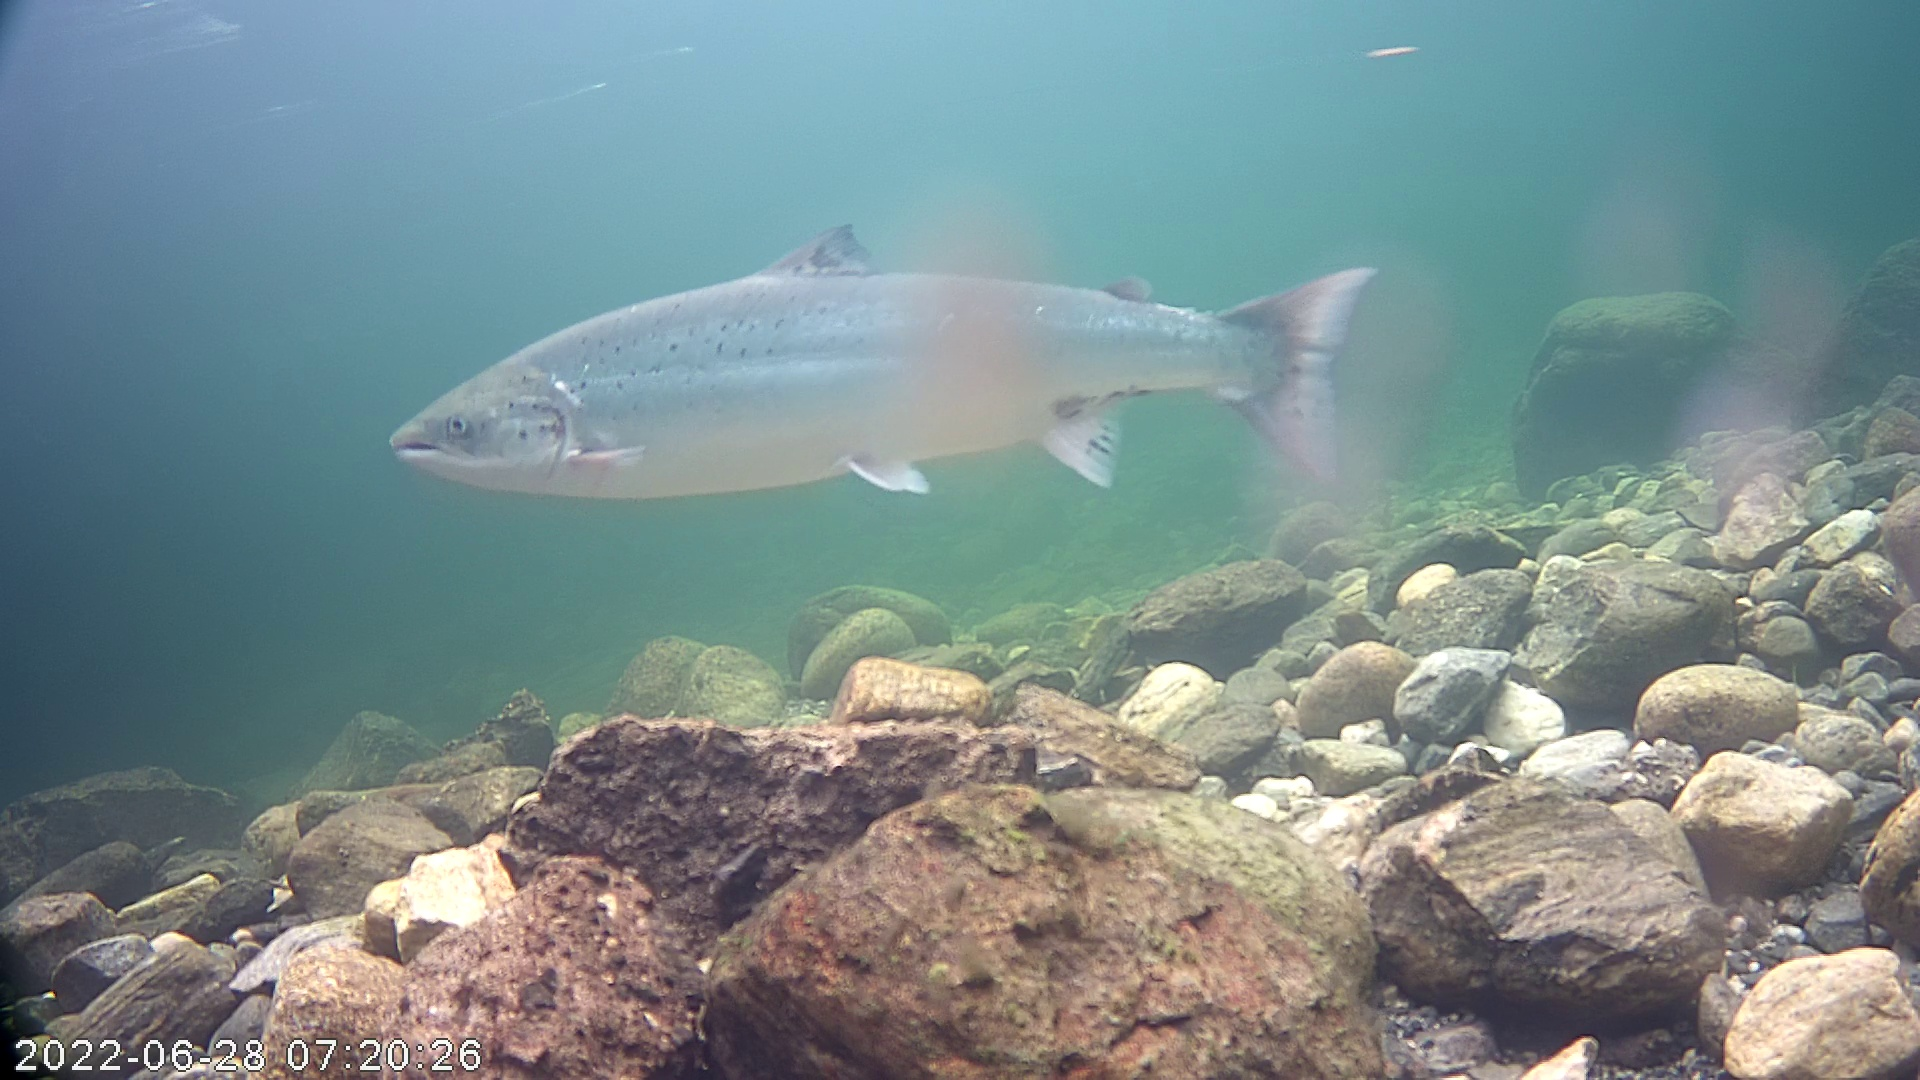salmon: (375, 142, 1399, 543)
